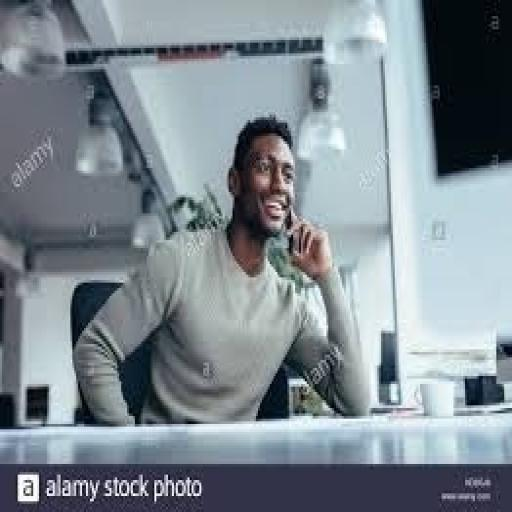calling: (70, 112, 372, 427)
